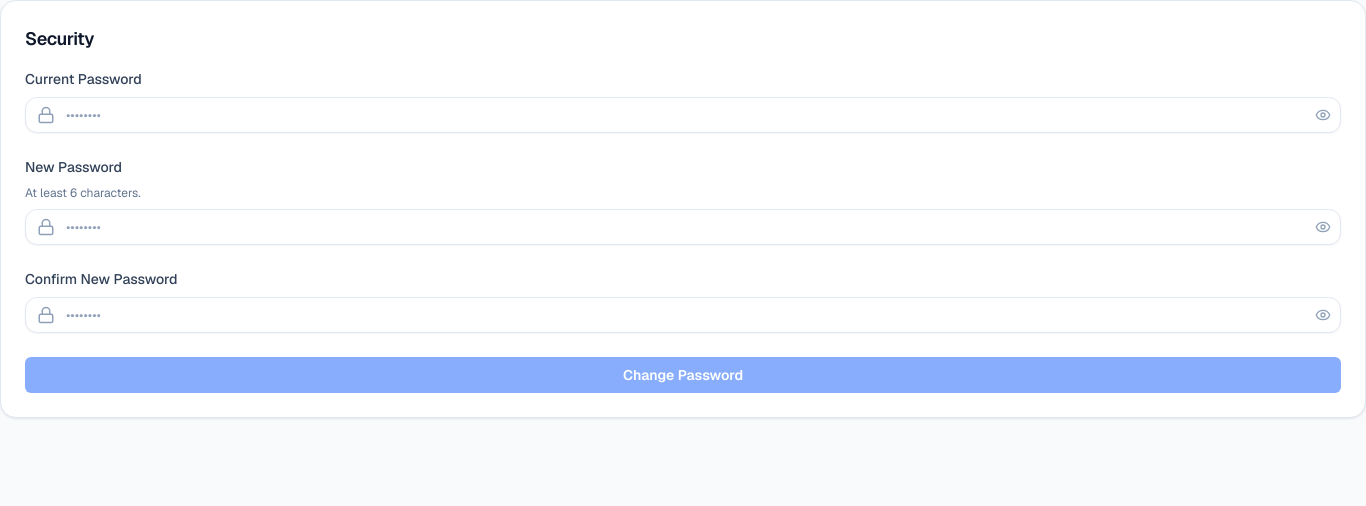
SecurityForm › re-authenticates and updates the password on success, then clears the fields
In the password field labelled "Current Password": (683, 115) [25,97,1341,133], type "old-secret"
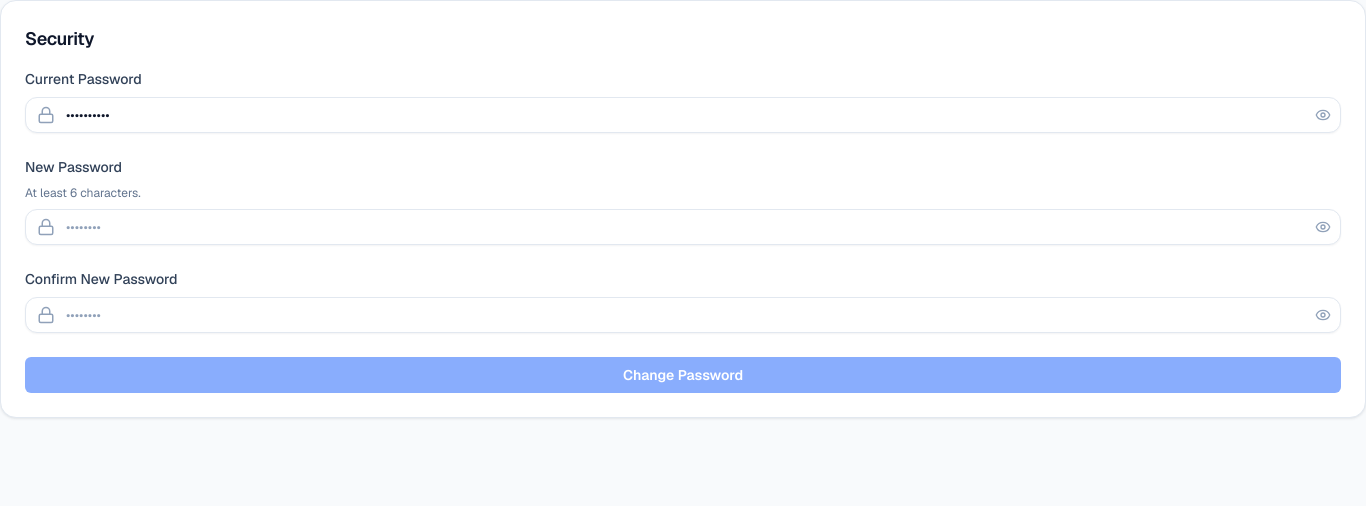
In the password field labelled "New Password": (683, 227) [25,209,1341,245], type "new-secret"
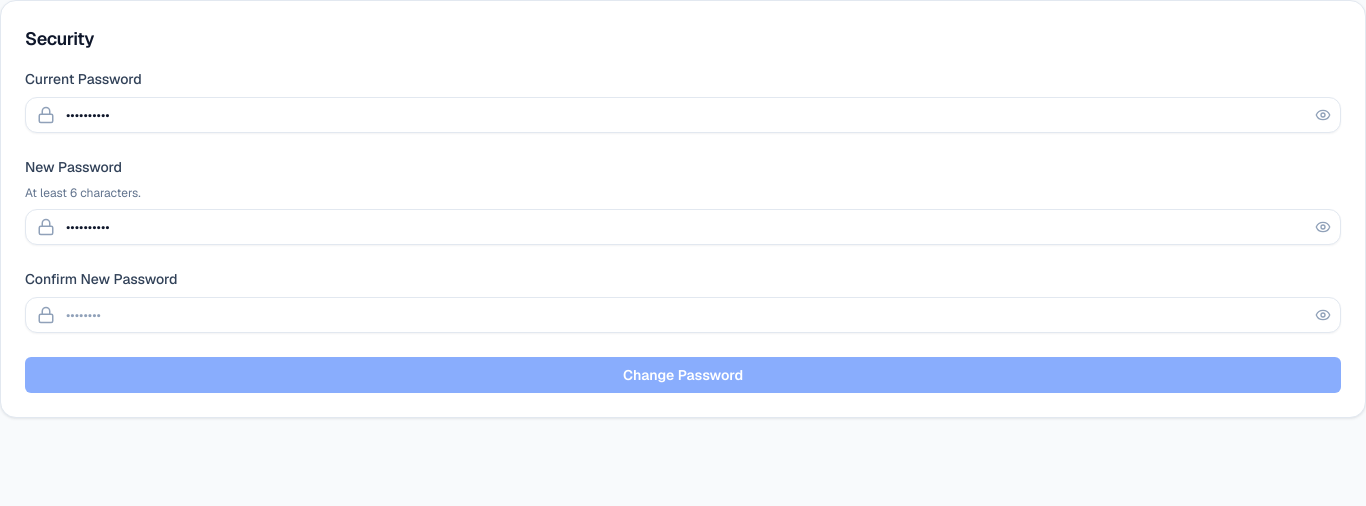
In the password field labelled "Confirm New Password": (683, 315) [25,297,1341,333], type "new-secret"
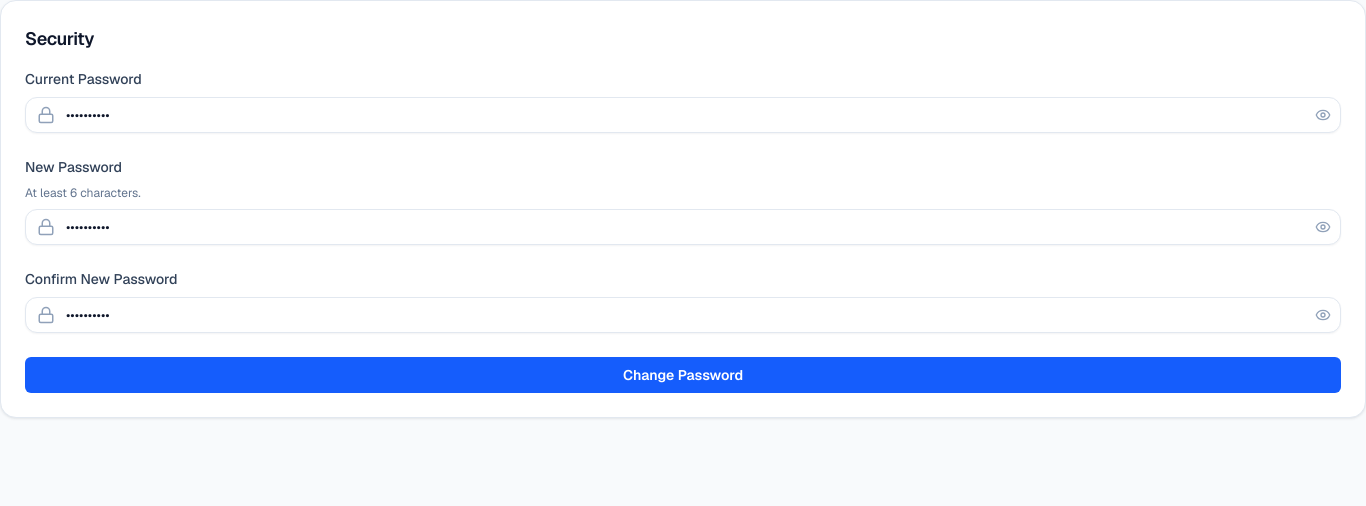
Click the button "Change Password": (683, 375) [25,357,1341,393]
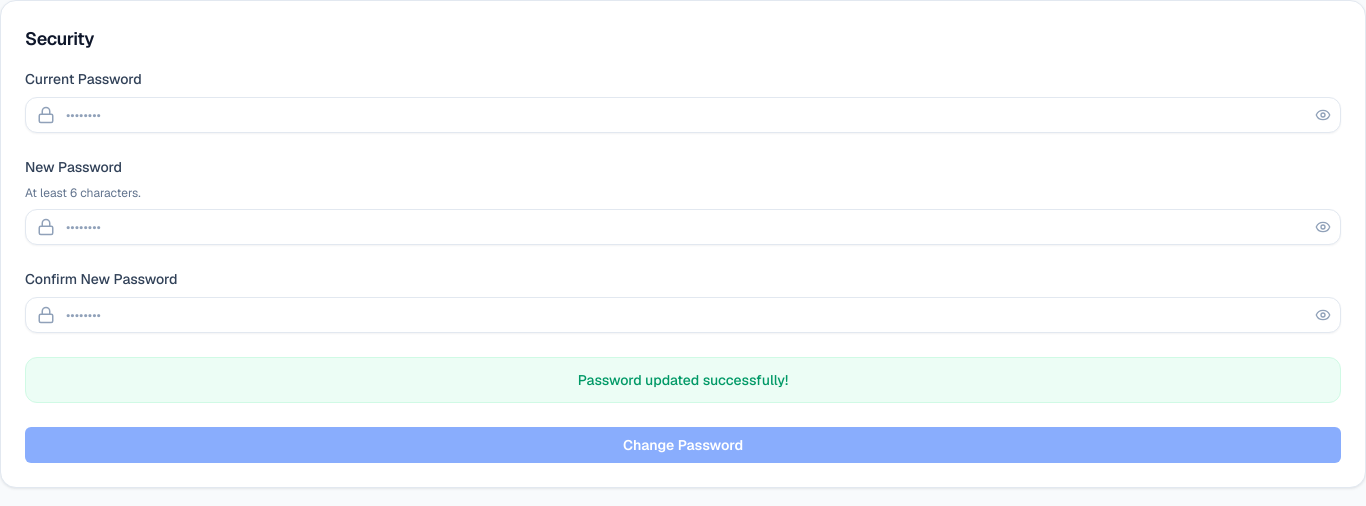
Expected: the text "Password updated successfully!" is shown, [578,371,788,389]
Expected: the password field labelled "Current Password" is empty, [25,97,1341,133]
Expected: the password field labelled "New Password" is empty, [25,209,1341,245]
